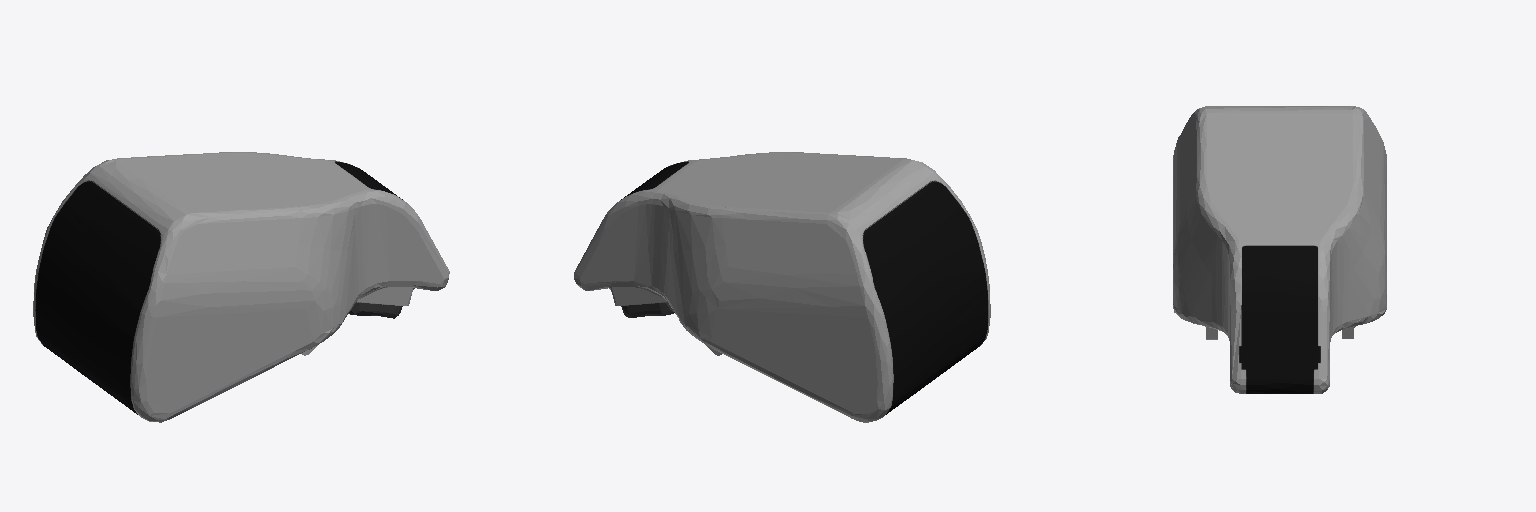
3 views of the same model, side by side, from view 1: azimuth 30°, elevation 25°; view 2: azimuth 150°, elevation 25°; view 3: azimuth 270°, elevation 25° (orthographic).
Parts seen in each view (by area): view 1: /ambf/env/pr2/r_gripper_l_finger_link_/ambf/env/pr2/r_gripper_l_; view 2: /ambf/env/pr2/r_gripper_l_finger_link_/ambf/env/pr2/r_gripper_l_; view 3: /ambf/env/pr2/r_gripper_l_finger_link_/ambf/env/pr2/r_gripper_l_.
Part boxes in pixels (left/top/right/bottom): /ambf/env/pr2/r_gripper_l_finger_link_/ambf/env/pr2/r_gripper_l_: left=33, top=152, right=449, bottom=422; /ambf/env/pr2/r_gripper_l_finger_link_/ambf/env/pr2/r_gripper_l_: left=574, top=152, right=990, bottom=422; /ambf/env/pr2/r_gripper_l_finger_link_/ambf/env/pr2/r_gripper_l_: left=1173, top=106, right=1386, bottom=393.
Bounding box in the file's own units: 0.1046 × 0.0548 × 0.0562.
1 materials, 1 textured.